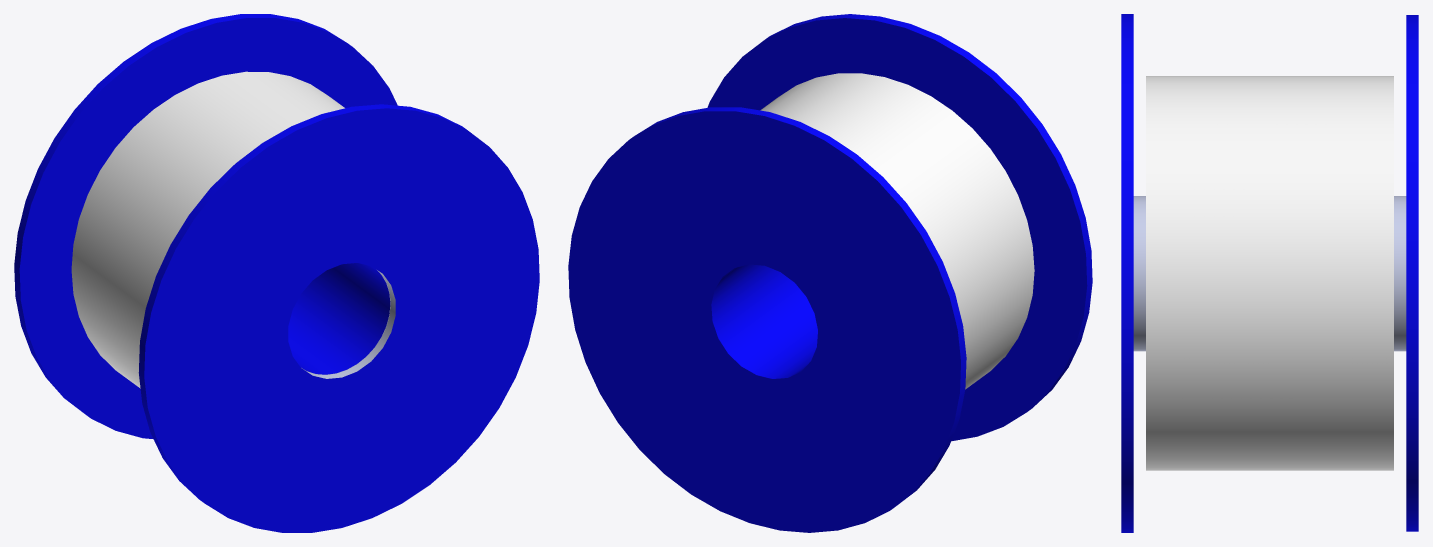
Rendered from espaladrapo.fbx.
The picture shows the model from 3 angles, left to right: view 1: azimuth 30°, elevation 25°; view 2: azimuth 150°, elevation 25°; view 3: azimuth 270°, elevation 25°; orthographic projection. The views are drawn at different scales.
Parts seen in each view (by area): view 1: Boss-Extrude4, Boss-Extrude1; view 2: Boss-Extrude4, Boss-Extrude1; view 3: Boss-Extrude1, Boss-Extrude4.
Boxes of the visible parts, box(x1,y1,x2,y2) form: Boss-Extrude4: box(14, 14, 539, 532); Boss-Extrude1: box(71, 71, 344, 388); Boss-Extrude4: box(568, 14, 1092, 532); Boss-Extrude1: box(760, 73, 1034, 389); Boss-Extrude1: box(1146, 76, 1393, 470); Boss-Extrude4: box(1121, 14, 1418, 532).
Bounding box in the file's own units: 1.65 × 1.65 × 0.9449.
